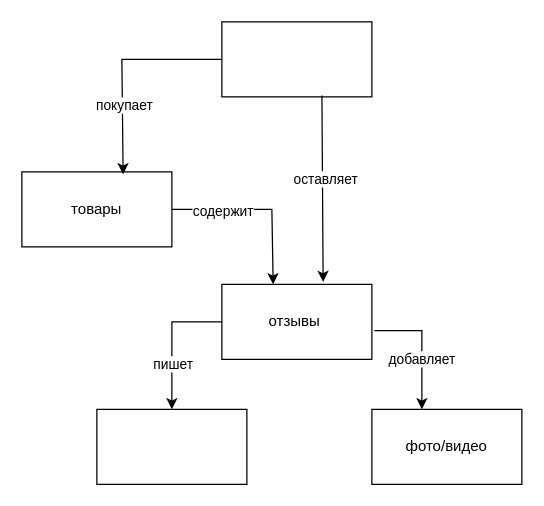
This 544x506 diagram has some shape labels left out. The centre of each missing label's shape, as x and y in pixels:
User: the point at 296,59
комментарий: the point at 171,446
